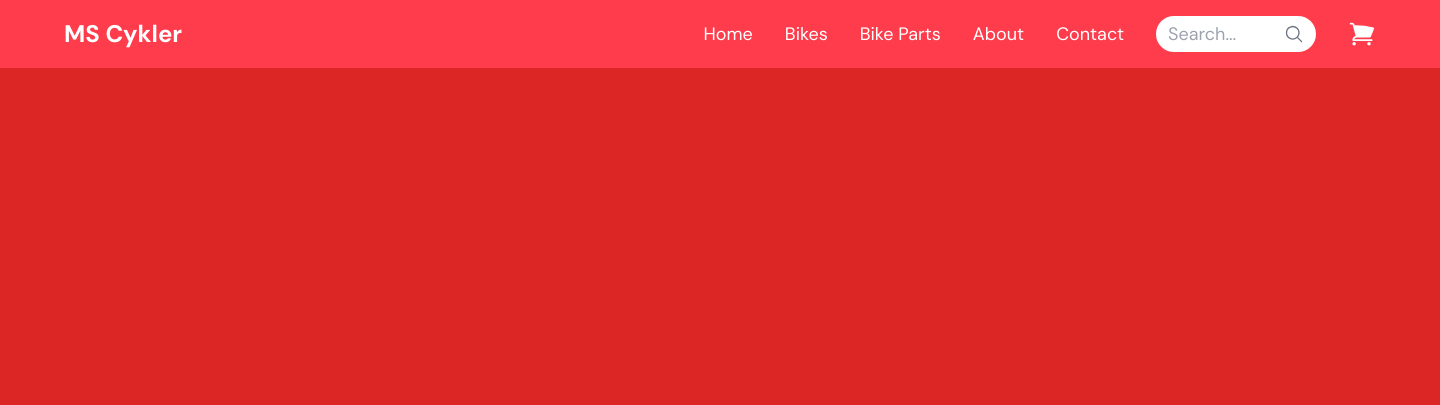
it: Navbar Search › Search bar shows results for bikes + parts
// simulate typing
Step 1. Type "e" into the field with placeholder "Search..." → (1236, 34), box left=1156, top=16, right=1316, bottom=52
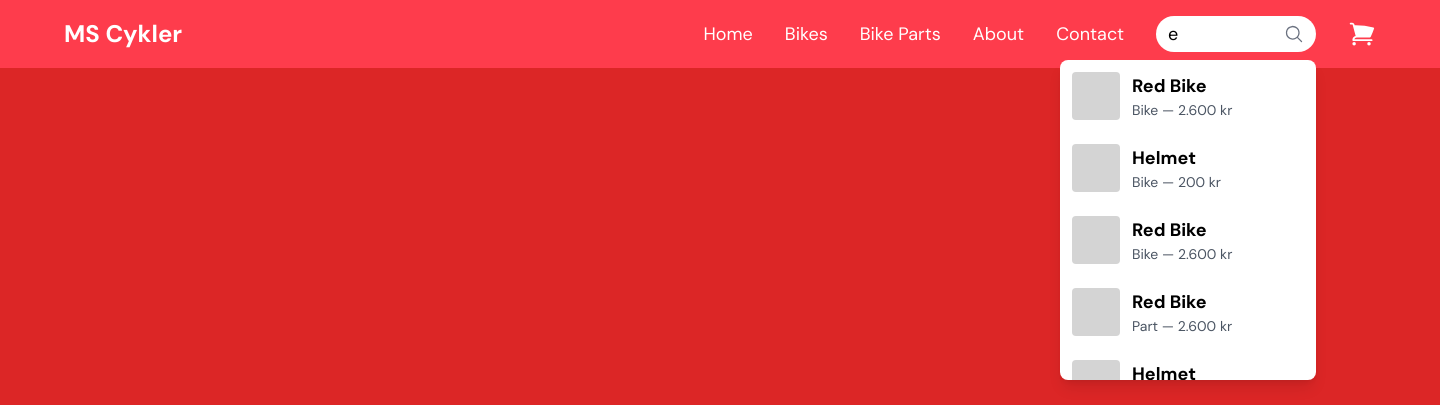
Check: the 1st text "Red Bike" is shown, box left=1132, top=74, right=1207, bottom=98
Check: the 1st text "Helmet" is shown, box left=1132, top=146, right=1196, bottom=170
